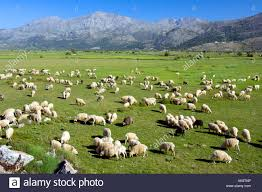sheep: (49, 139, 80, 158), (212, 149, 234, 165), (157, 140, 177, 157), (128, 143, 148, 157), (223, 137, 241, 152), (207, 121, 222, 135), (71, 112, 87, 123), (242, 128, 253, 143), (141, 96, 157, 106), (124, 132, 140, 142), (62, 86, 74, 99), (73, 96, 88, 106), (4, 127, 16, 139), (60, 130, 71, 143), (178, 119, 190, 130), (201, 102, 212, 113), (101, 126, 112, 137), (121, 116, 133, 126), (157, 103, 167, 113), (229, 126, 238, 137), (186, 102, 197, 111), (110, 112, 118, 123), (49, 108, 58, 117), (128, 96, 136, 106), (95, 94, 104, 102), (29, 89, 37, 98), (242, 93, 251, 100), (46, 83, 54, 90), (154, 92, 162, 99), (200, 89, 207, 97), (252, 83, 260, 90), (113, 86, 120, 94), (213, 92, 220, 99), (11, 81, 18, 88), (149, 83, 154, 90), (129, 79, 134, 85)
